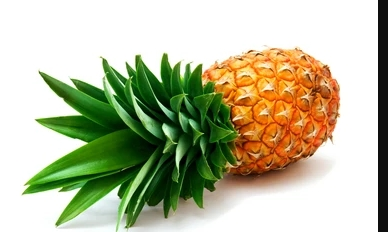pineapple: (15, 53, 380, 213)
